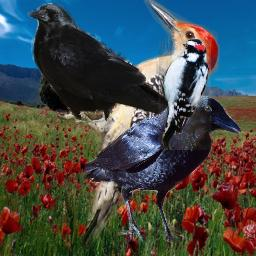Crow: (85, 95, 241, 246), (27, 3, 189, 122)
Woodpecker: (54, 0, 223, 252), (156, 39, 212, 150)
